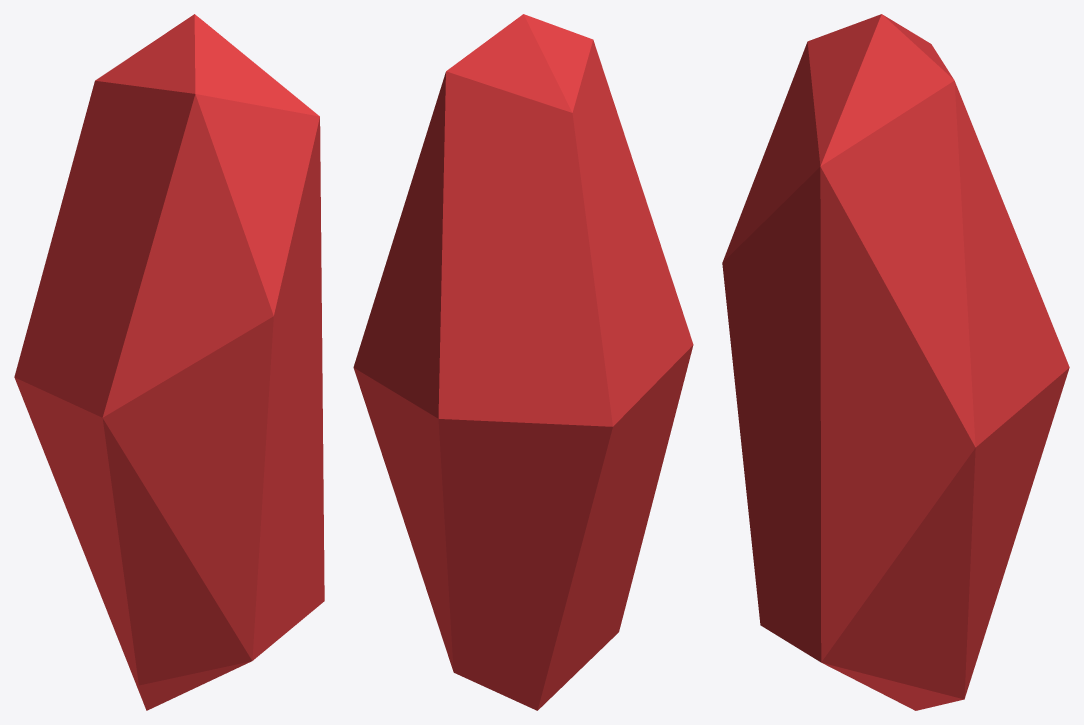
The model's file is Loose Crystal 1.fbx.
The picture shows the model from 3 angles, left to right: view 1: azimuth 30°, elevation 25°; view 2: azimuth 150°, elevation 25°; view 3: azimuth 270°, elevation 25°; orthographic projection. The views are drawn at different scales.
Visible parts, largest first — view 1: Loose Crystal 1; view 2: Loose Crystal 1; view 3: Loose Crystal 1.
Part boxes in pixels (x1,y1,x2,y2): Loose Crystal 1: (14, 14, 324, 710); Loose Crystal 1: (353, 14, 693, 710); Loose Crystal 1: (722, 14, 1069, 710).
Size of the model in its own units: 11.69 by 29.44 by 13.01.
